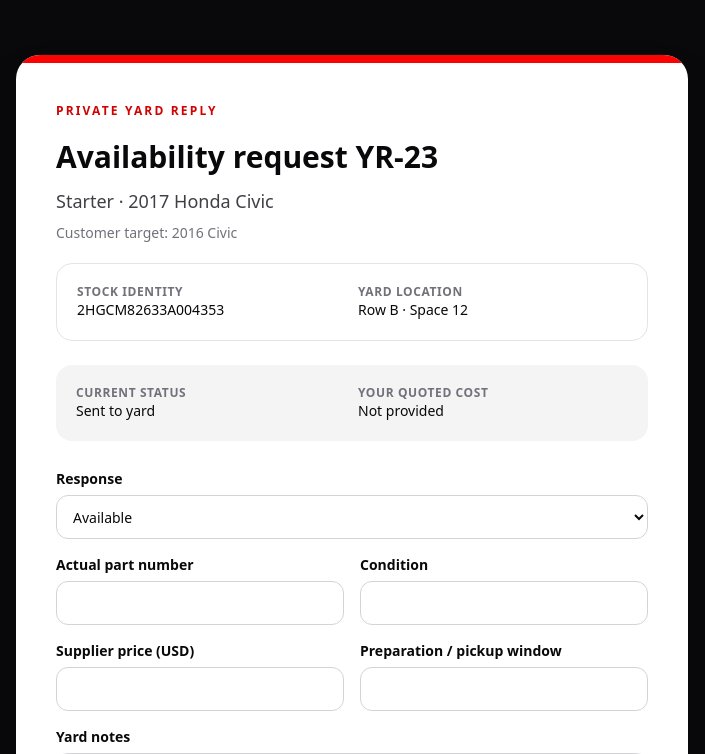
Scenario: a stale supplier reply reloads the current revision and keeps the conflict visible
expect the text "2HGCM82633A004353" is shown: met, box [77,300,224,319]
Select "Available" in the dropdown labelled "Response": (352, 517) [56,495,648,539]
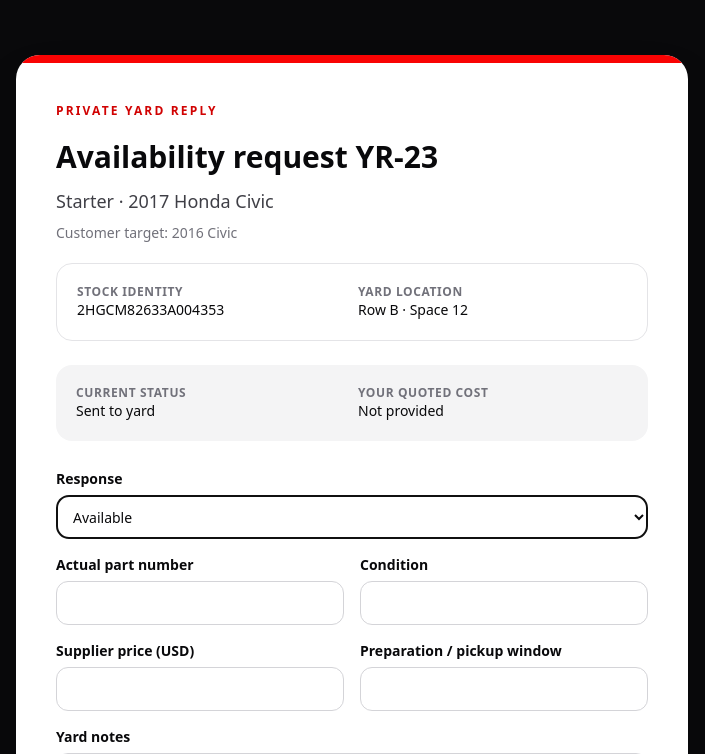
In the field labelled "Actual part number": (200, 603) [56,581,344,625], type "OLD-1"
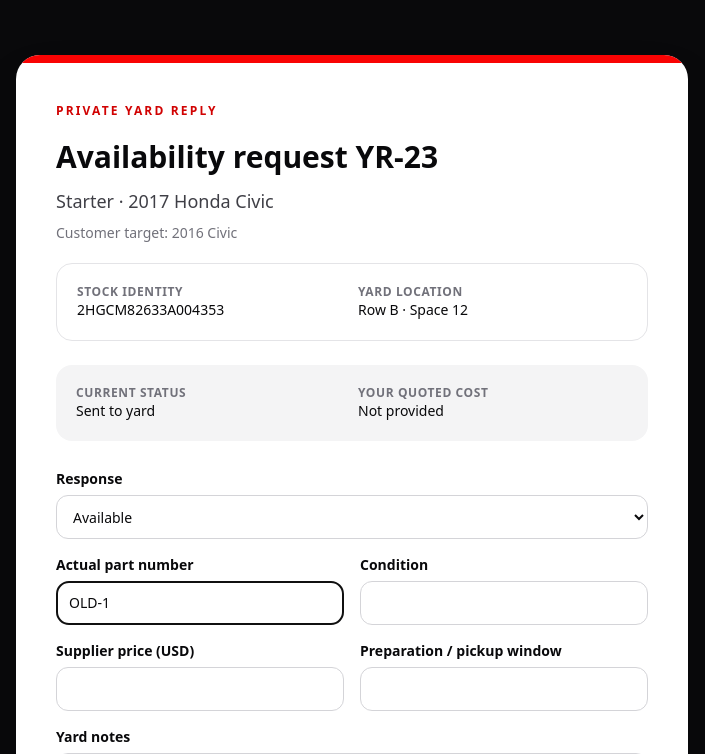
In the field labelled "Condition": (504, 603) [360,581,648,625], type "Good"
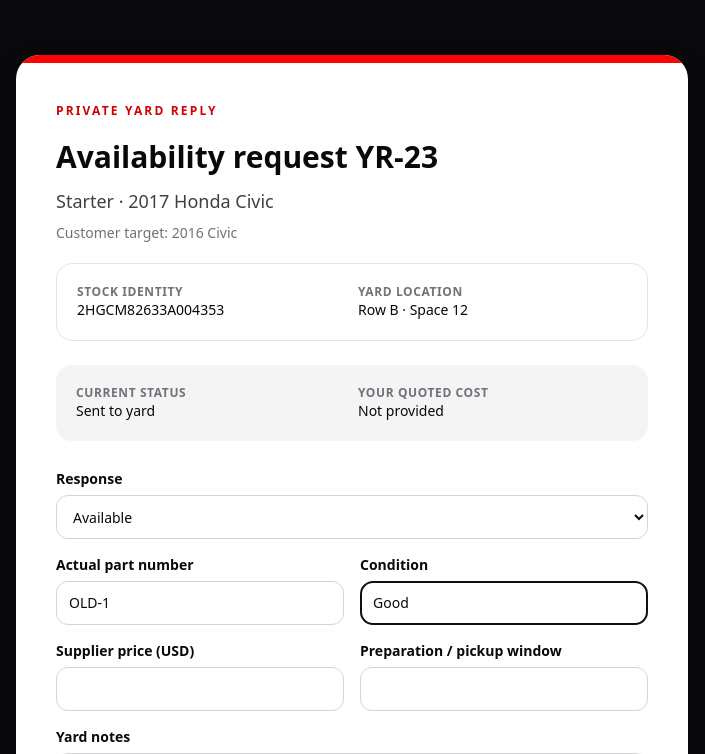
In the field labelled "Supplier price (USD)": (200, 689) [56,667,344,711], type "100.00"
(page scrolled)
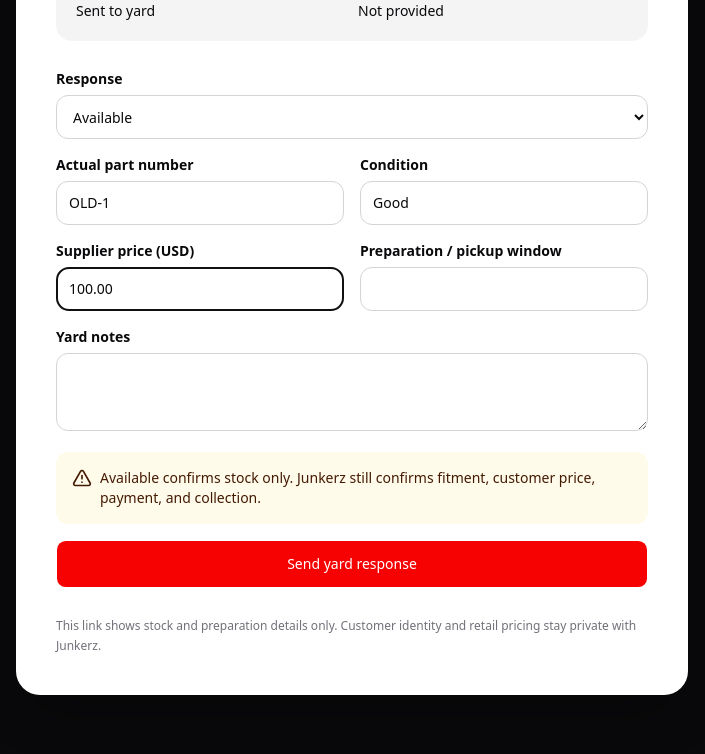
In the text box labelled "Yard notes": (352, 392) [56,353,648,431], type "Stale local note"
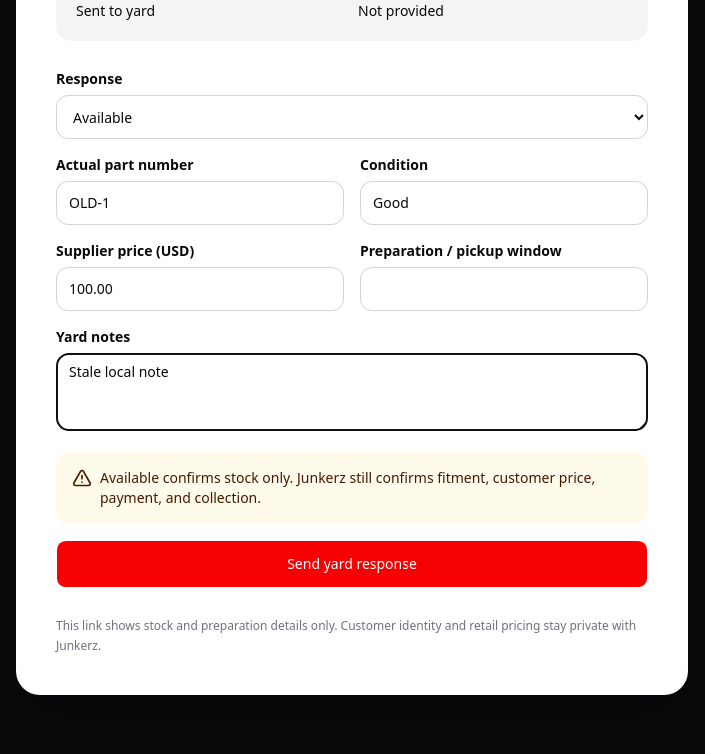
Click the button "Send yard response": (352, 564) [56,540,648,588]
(page scrolled)
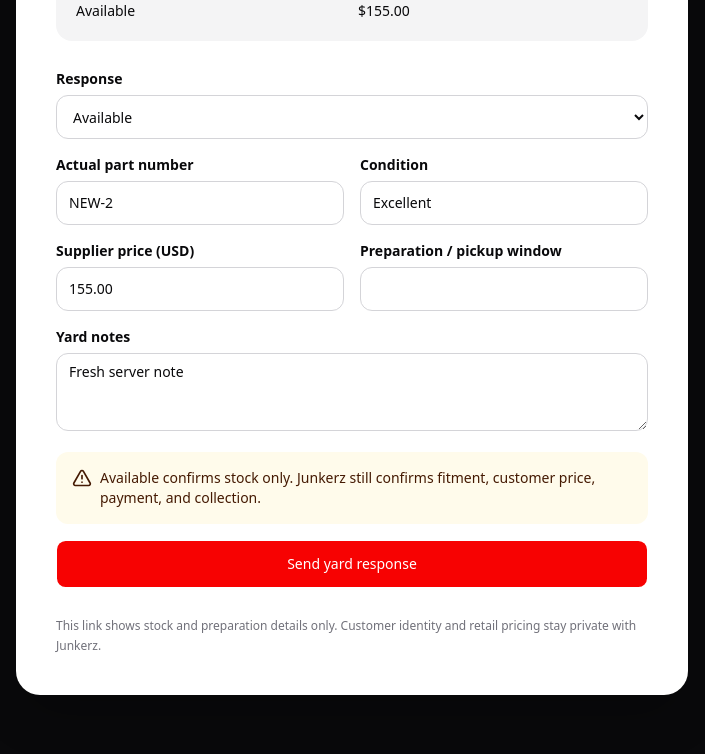
expect the field labelled "Actual part number" holds "NEW-2": met, box [56,181,344,225]
expect the field labelled "Condition" holds "Excellent": met, box [360,181,648,225]
expect the field labelled "Supplier price (USD)" holds "155.00": met, box [56,267,344,311]
